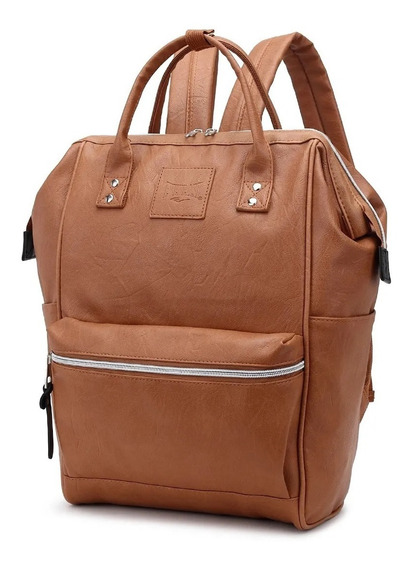cartera: (21, 27, 391, 539)
